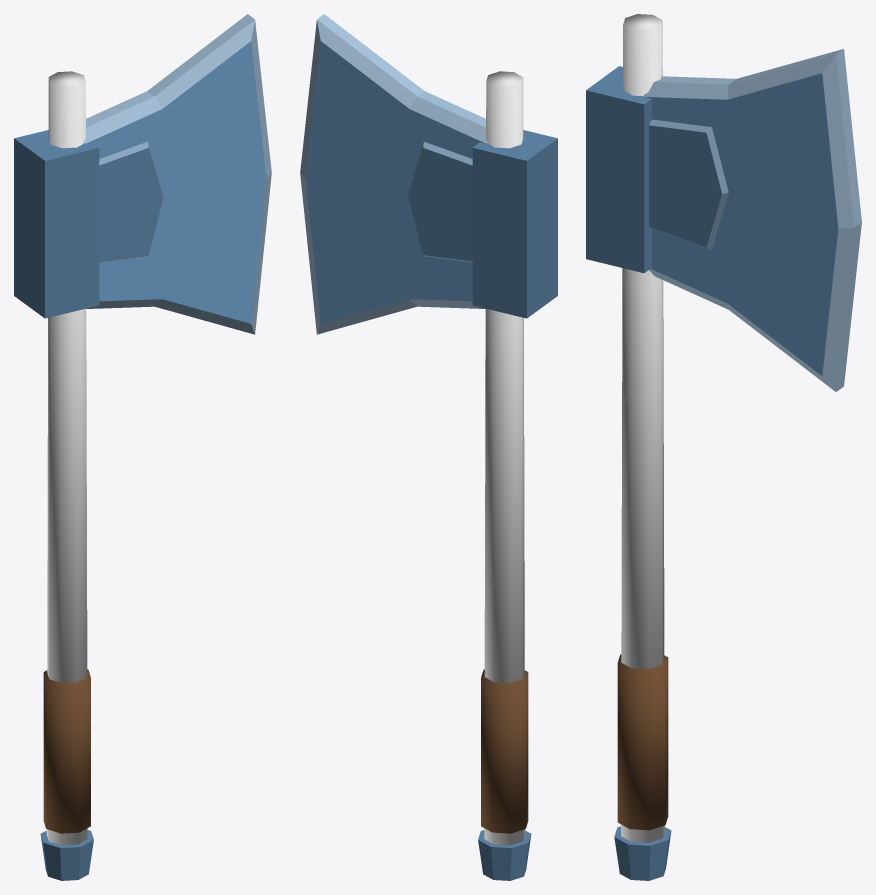
File: spectre_hamaxe.glb
The picture shows the model from 3 angles, left to right: view 1: azimuth 30°, elevation 25°; view 2: azimuth 150°, elevation 25°; view 3: azimuth 330°, elevation 25°; orthographic projection. The views are drawn at different scales.
Parts seen in each view (by area): view 1: spectre_hamaxe_v0; view 2: spectre_hamaxe_v0; view 3: spectre_hamaxe_v0.
Part boxes in pixels (x1,y1,x2,y2): spectre_hamaxe_v0: (14, 14, 271, 880); spectre_hamaxe_v0: (300, 14, 557, 880); spectre_hamaxe_v0: (586, 14, 861, 880).
Size of the model in its own units: 0.285 by 0.925 by 0.064.
